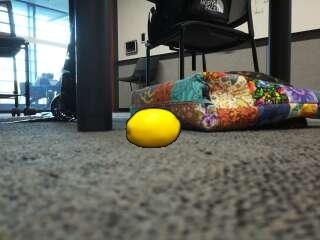lemon: (128, 109, 181, 147)
